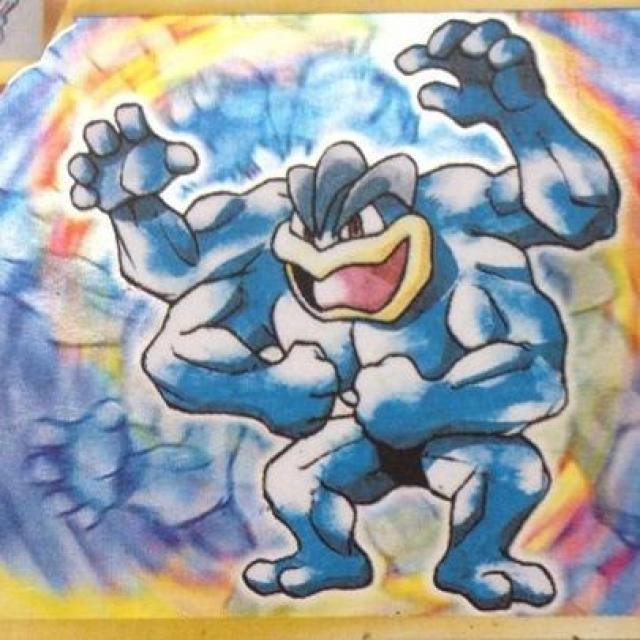Machamp: (144, 122, 591, 612)
